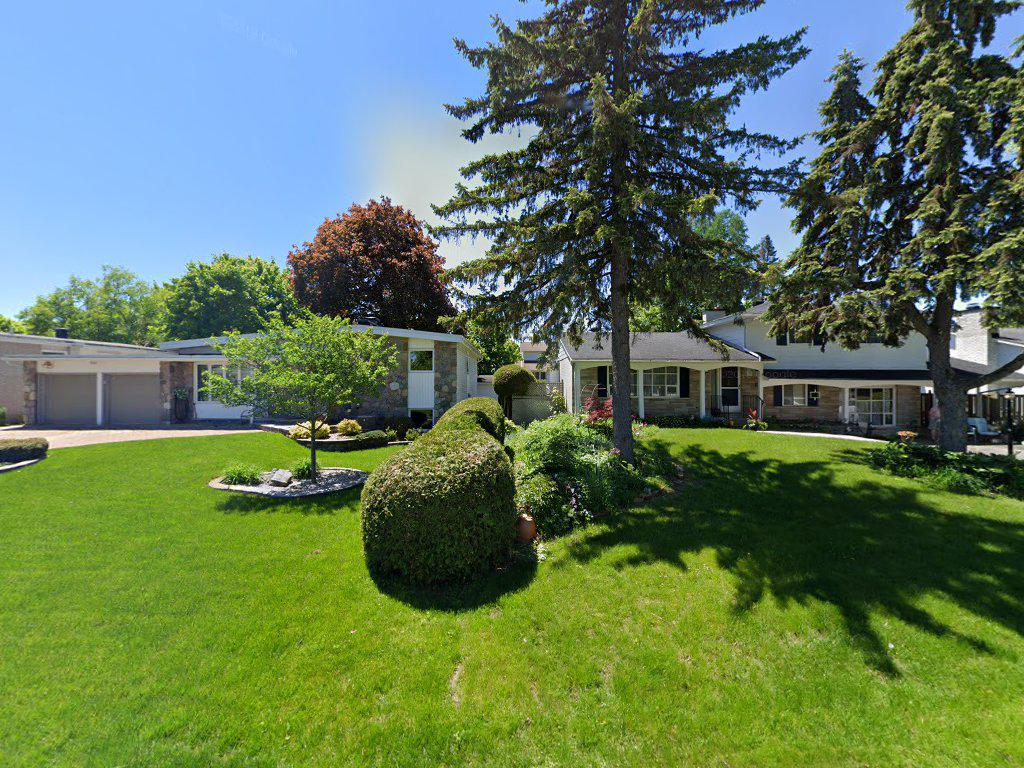trunk: (602, 263, 645, 494)
